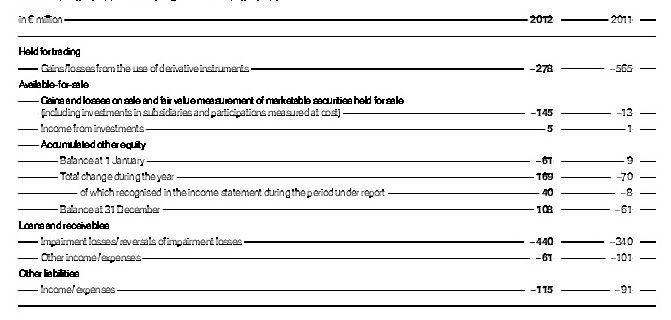table: (0, 0, 671, 320)
